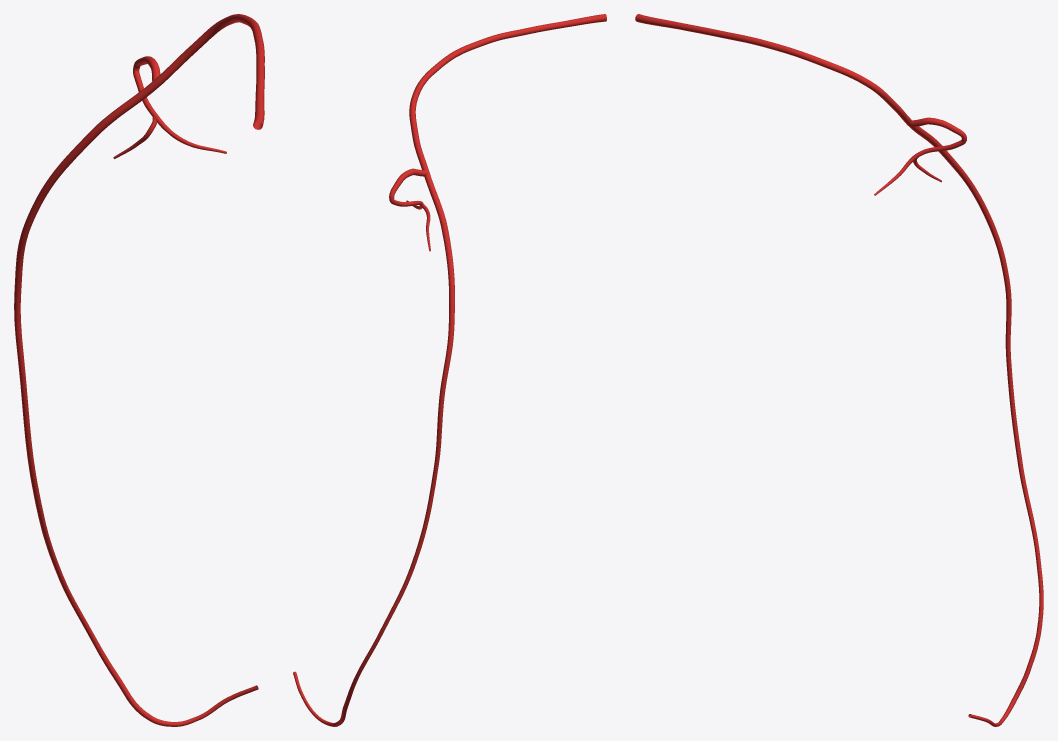
The model's file is circulatorio-deep-branch-of-transverse-cervical-artery-l.glb.
The picture shows the model from 3 angles, left to right: view 1: azimuth 30°, elevation 25°; view 2: azimuth 150°, elevation 25°; view 3: azimuth 270°, elevation 25°; orthographic projection. The views are drawn at different scales.
Visible parts, largest first — view 1: (Deep branch of transverse cervical artery).l; view 2: (Deep branch of transverse cervical artery).l; view 3: (Deep branch of transverse cervical artery).l.
Boxes of the visible parts, left/top/right/bottom form: (Deep branch of transverse cervical artery).l: left=14, top=14, right=264, bottom=726; (Deep branch of transverse cervical artery).l: left=293, top=14, right=606, bottom=726; (Deep branch of transverse cervical artery).l: left=635, top=14, right=1043, bottom=726.
Bounding box in the file's own units: 0.0514 × 0.1783 × 0.1004.
